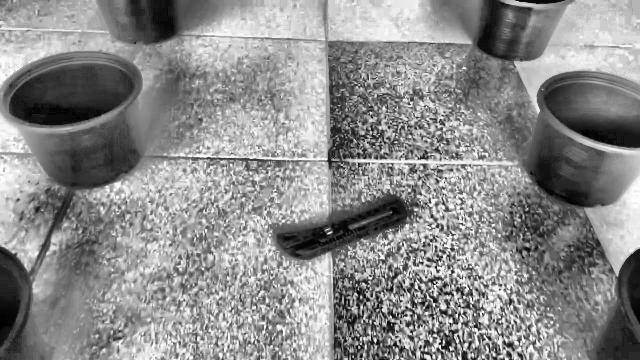pot: (0, 51, 145, 190), (525, 72, 640, 208)
